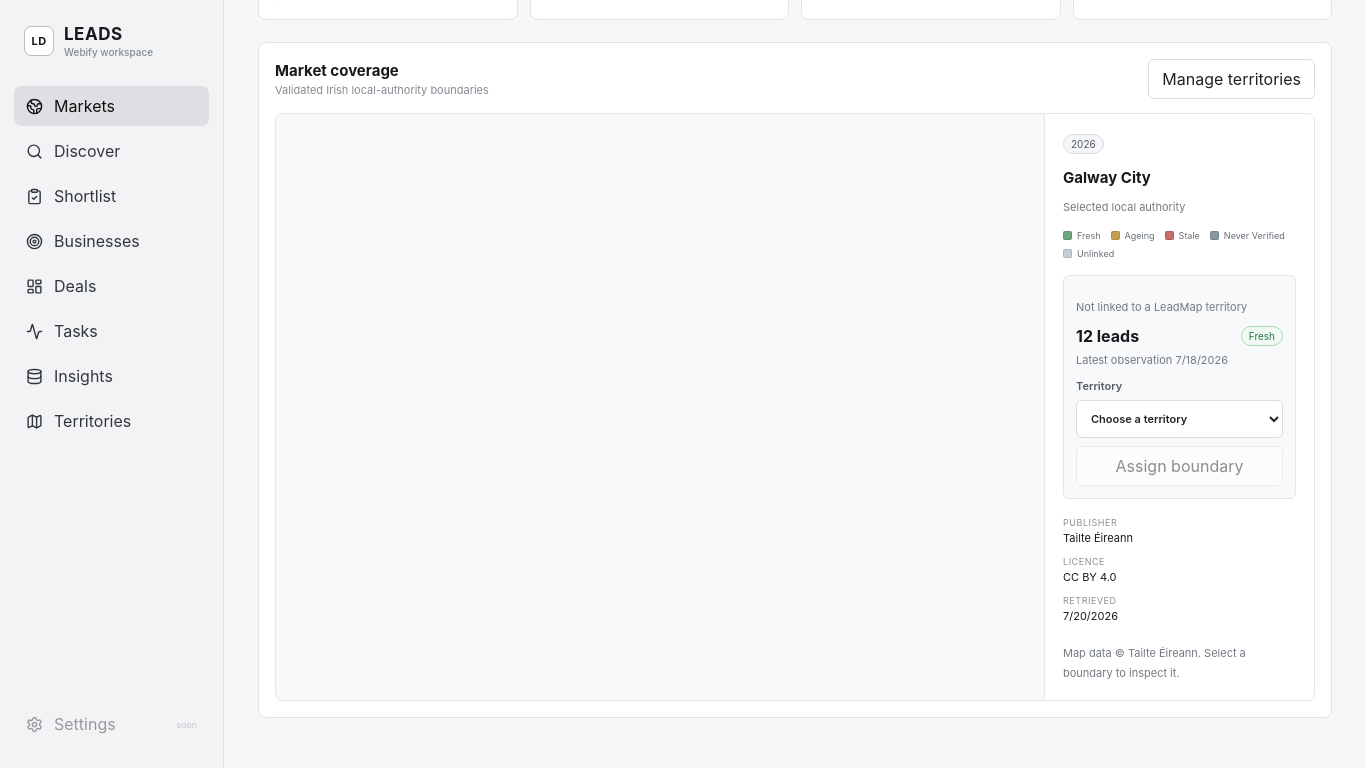
App › assigns a selected boundary to a territory
(page scrolled)
Check: the text "Not linked to a LeadMap territory" is shown, box [1076,300,1247,314]
Select "Galway City" in the dropdown labelled "Territory": (1180,419) [1076,400,1283,438]
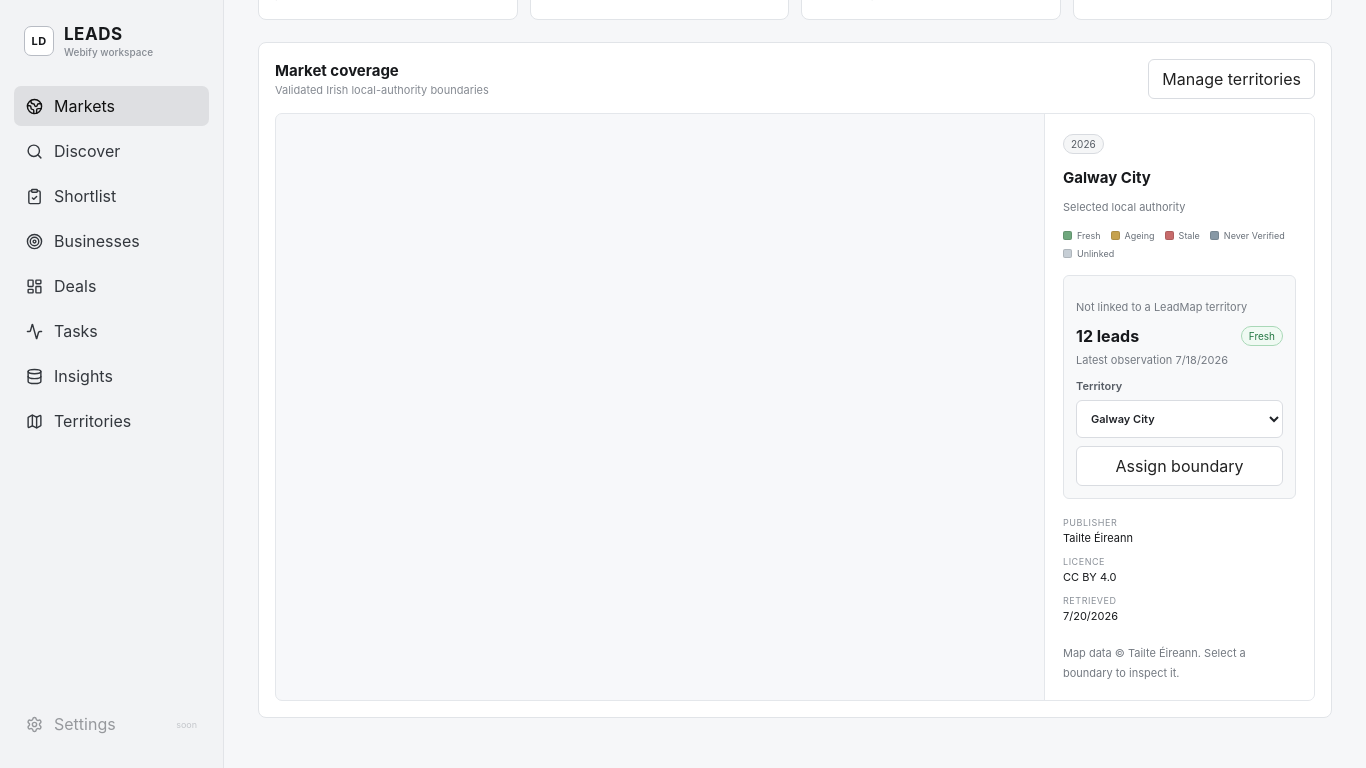
Click the button "Assign boundary": (1180,466) [1076,446,1283,486]
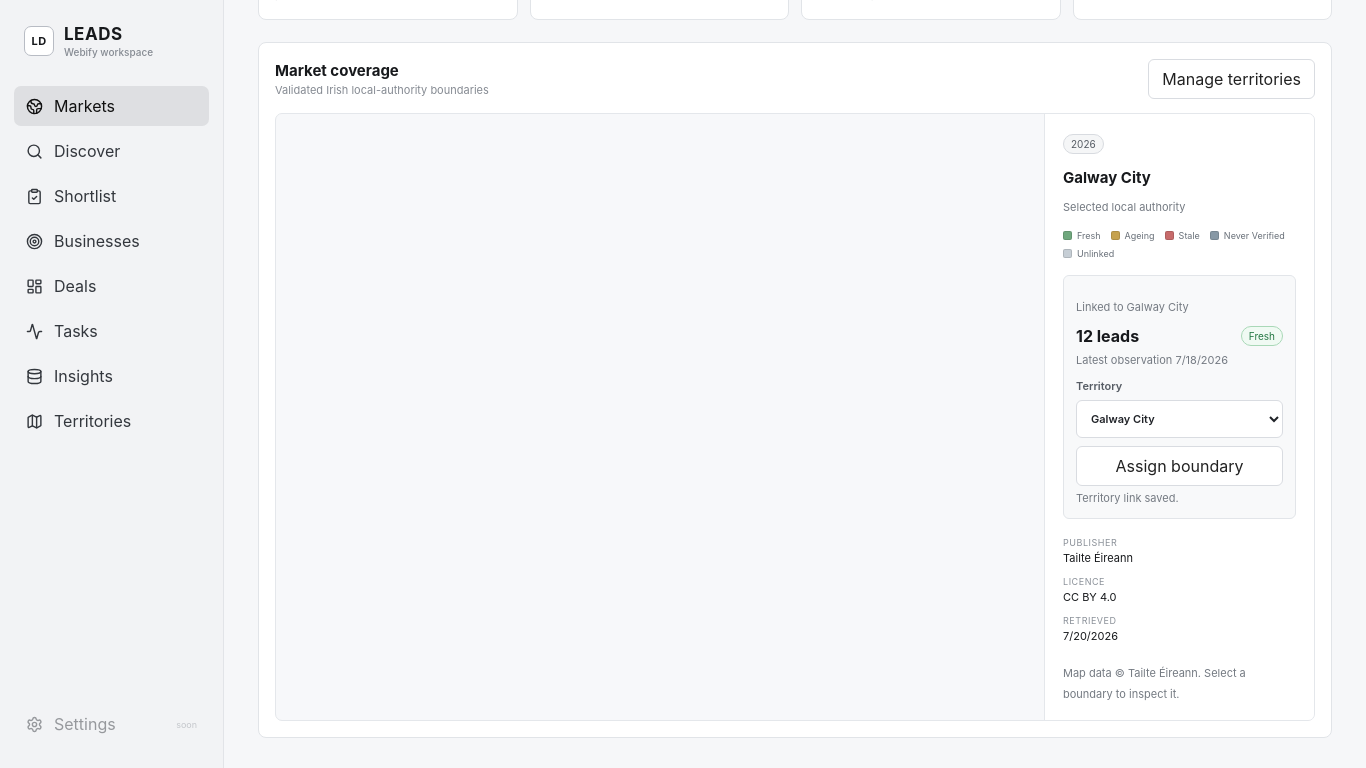
Check: the text "Territory link saved." is shown, box [1076,491,1179,505]
Check: the text "Linked to Galway City" is shown, box [1076,300,1189,314]
